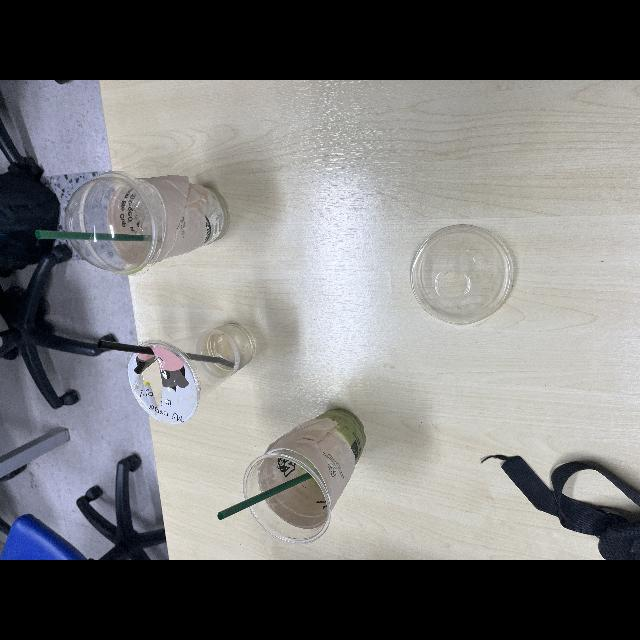plastic_cup: (243, 404, 373, 546), (126, 319, 262, 426), (81, 175, 231, 268)
plastic_cup_lid: (407, 220, 515, 332), (59, 177, 158, 276)
straw: (215, 466, 321, 522), (98, 337, 233, 369), (34, 228, 158, 246)
